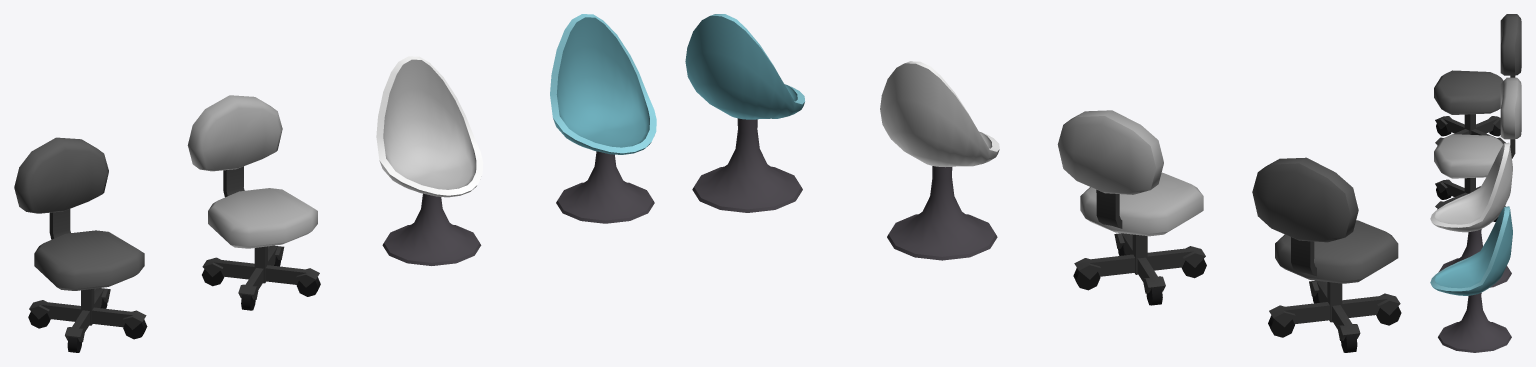
Rendered from chairs.fbx.
3 renders of one model, left to right at view 1: azimuth 30°, elevation 25°; view 2: azimuth 150°, elevation 25°; view 3: azimuth 270°, elevation 25°, orthographic. The views are drawn at different scales.
Parts seen in each view (by area): view 1: Plastic Chair Blue, Plastic Chair, Office Chair Dark, Office Chair; view 2: Office Chair Dark, Office Chair, Plastic Chair, Plastic Chair Blue; view 3: Plastic Chair Blue, Office Chair Dark, Office Chair, Plastic Chair.
Part boxes in pixels (box(x1,y1,x2,y2)): Plastic Chair Blue: box(550, 14, 656, 223); Plastic Chair: box(376, 56, 483, 265); Office Chair Dark: box(14, 137, 147, 352); Office Chair: box(187, 95, 320, 310); Office Chair Dark: box(1252, 157, 1401, 352); Office Chair: box(1057, 110, 1206, 305); Plastic Chair: box(880, 61, 999, 260); Plastic Chair Blue: box(685, 14, 805, 212); Plastic Chair Blue: box(1430, 206, 1512, 352); Office Chair Dark: box(1434, 14, 1521, 145); Office Chair: box(1434, 77, 1521, 221); Plastic Chair: box(1430, 142, 1512, 287).
Bounding box in the file's own units: 3.53 × 0.946 × 0.6068.
